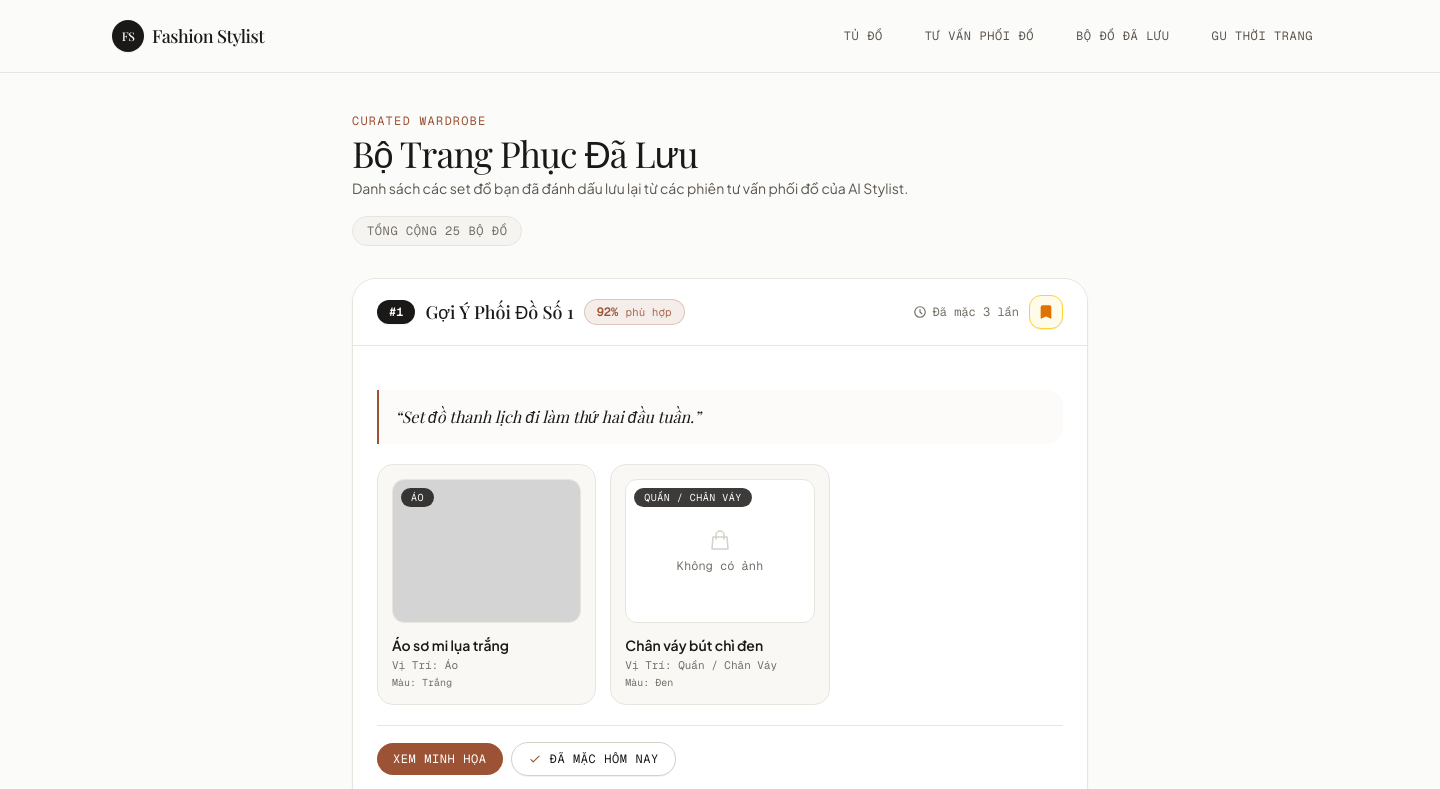
Test: SavedOutfitsPage Integration › updates local state when an outfit is unbookmarked from the page
Check: the text "“Set đồ thanh lịch đi làm thứ hai đầu tuần.”" is shown, box x1=377 y1=390 x2=1063 y2=444
Click the button named "Bỏ lưu bộ đồ này" at (1046, 312), box x1=1029 y1=295 x2=1063 y2=329
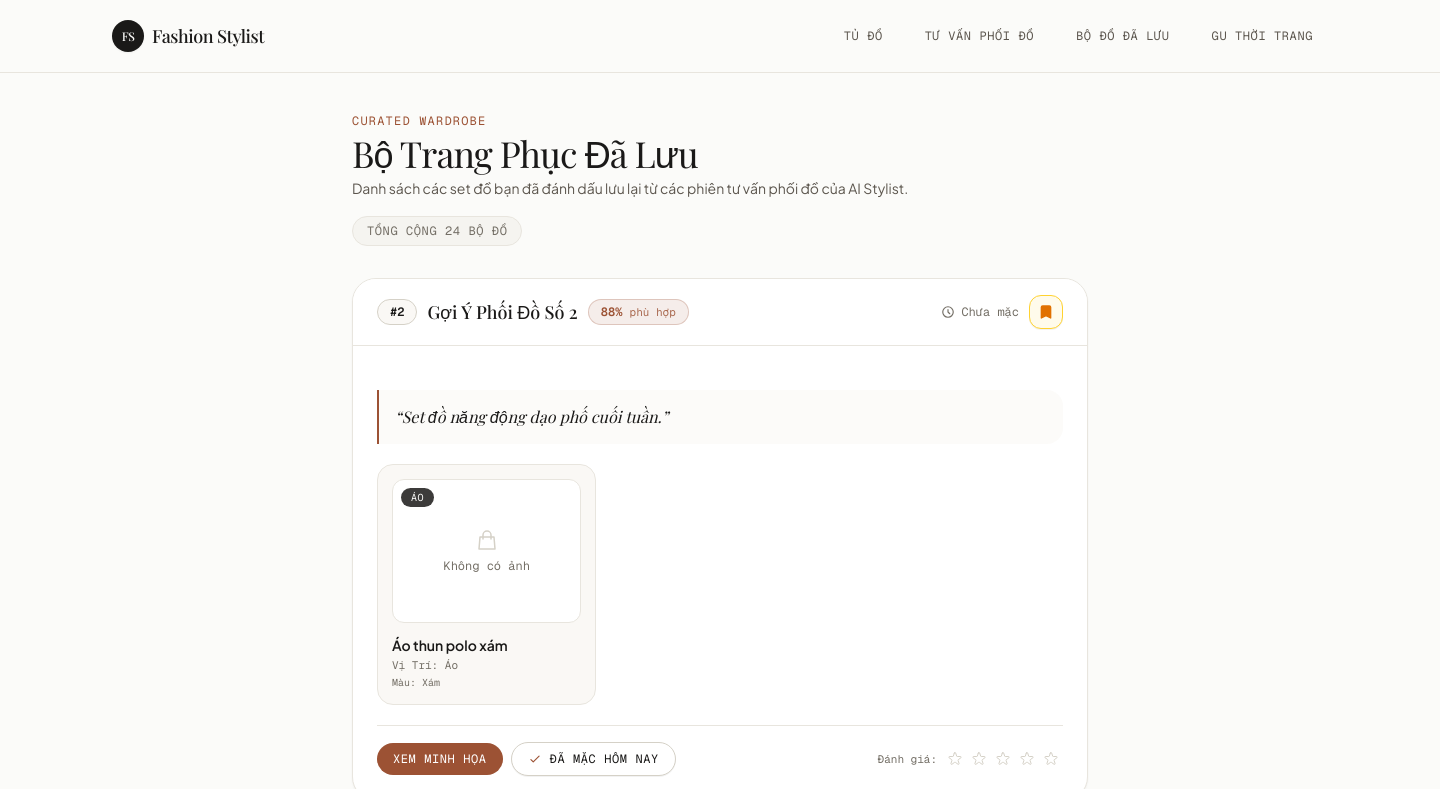
Check: the text "Set đồ thanh lịch đi làm" is gone
Check: the text "Tổng cộng 24 bộ đồ" is shown, box x1=352 y1=216 x2=522 y2=246
